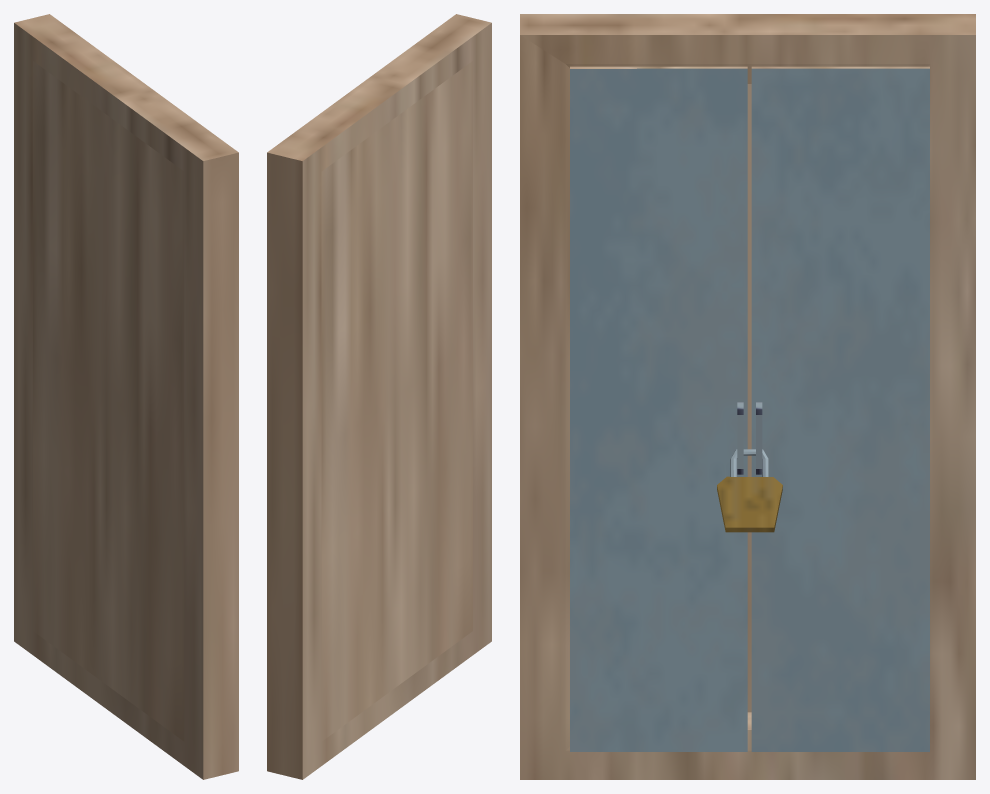
The model's file is Armario C. fechado.fbx.
3 views of the same model, side by side, from view 1: azimuth 30°, elevation 25°; view 2: azimuth 150°, elevation 25°; view 3: azimuth 270°, elevation 25° (orthographic). The views are drawn at different scales.
Visible parts, largest first — view 1: Porta; view 2: Porta; view 3: Porta.
Part boxes in pixels (<box>): Porta: <box>14,14,238,779</box>; Porta: <box>267,14,491,779</box>; Porta: <box>520,14,975,779</box>.
Bounding box in the file's own units: 97.18 × 681 × 377.
